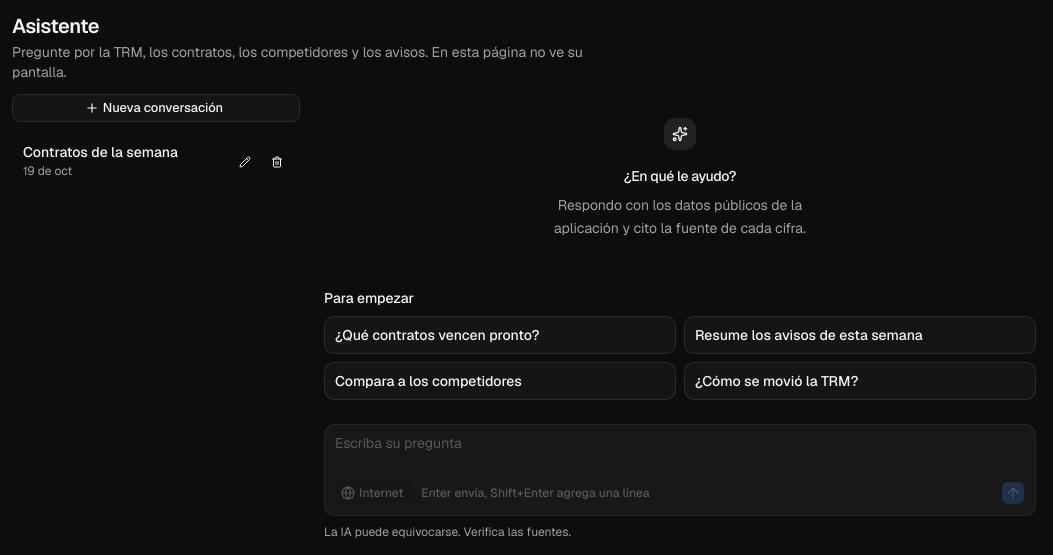
Scenario: AssistantPage › lists previous conversations in the history sidebar and resumes one
What coordinates should you click on to do the following:
click the button "Contratos de la semana"
I would click on:
 (124, 153)
Its box is [23, 143, 225, 162].
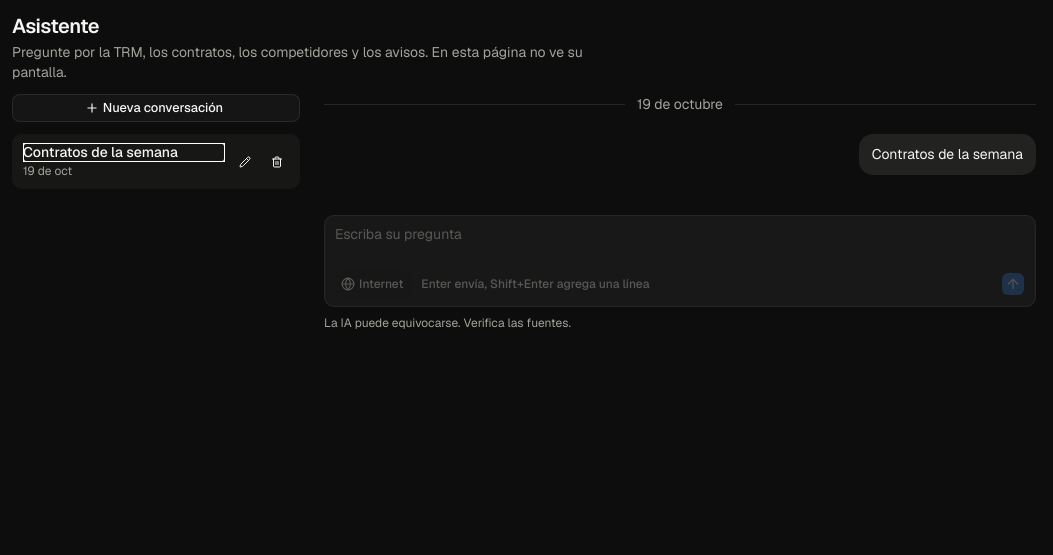
Check: the element named "Conversación con el asistente" is shown, box [637, 95, 1036, 175]
